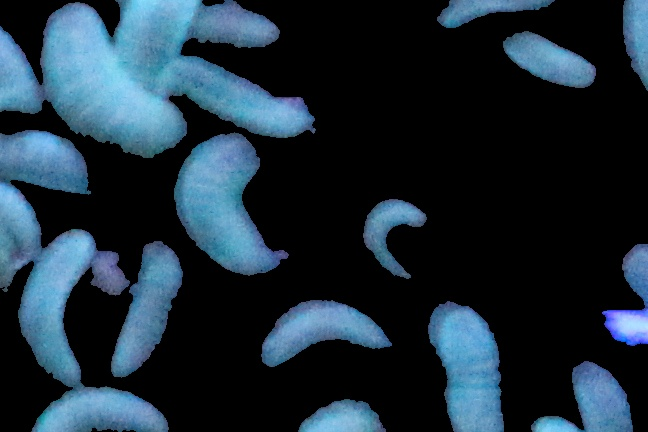larvae: (33, 1, 190, 164), (162, 117, 288, 279), (164, 53, 313, 137), (21, 225, 95, 389), (419, 304, 509, 432), (258, 289, 392, 362), (116, 241, 183, 382), (4, 122, 96, 206), (506, 15, 597, 98), (1, 1, 55, 128), (30, 384, 170, 432), (359, 195, 431, 282)
